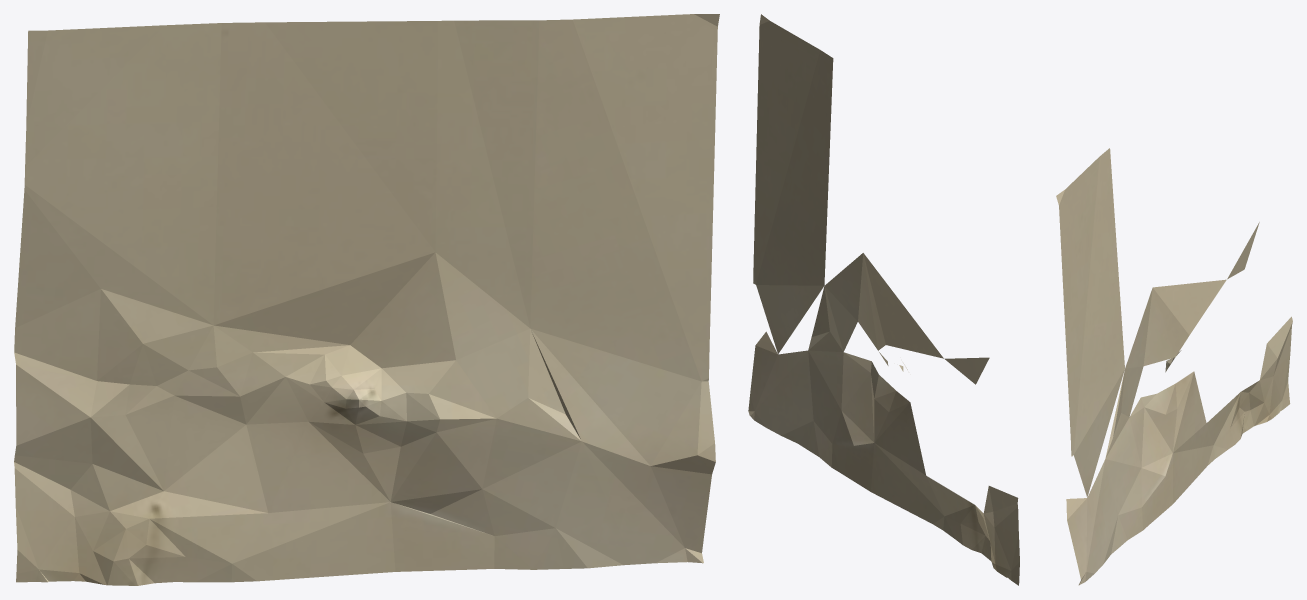
3 renders of one model, left to right at view 1: azimuth 30°, elevation 25°; view 2: azimuth 150°, elevation 25°; view 3: azimuth 270°, elevation 25°, orthographic. The views are drawn at different scales.
Size of the model in its own units: 1.67 by 1.67 by 0.9216.
Materials: 3 (3 with a texture image).
